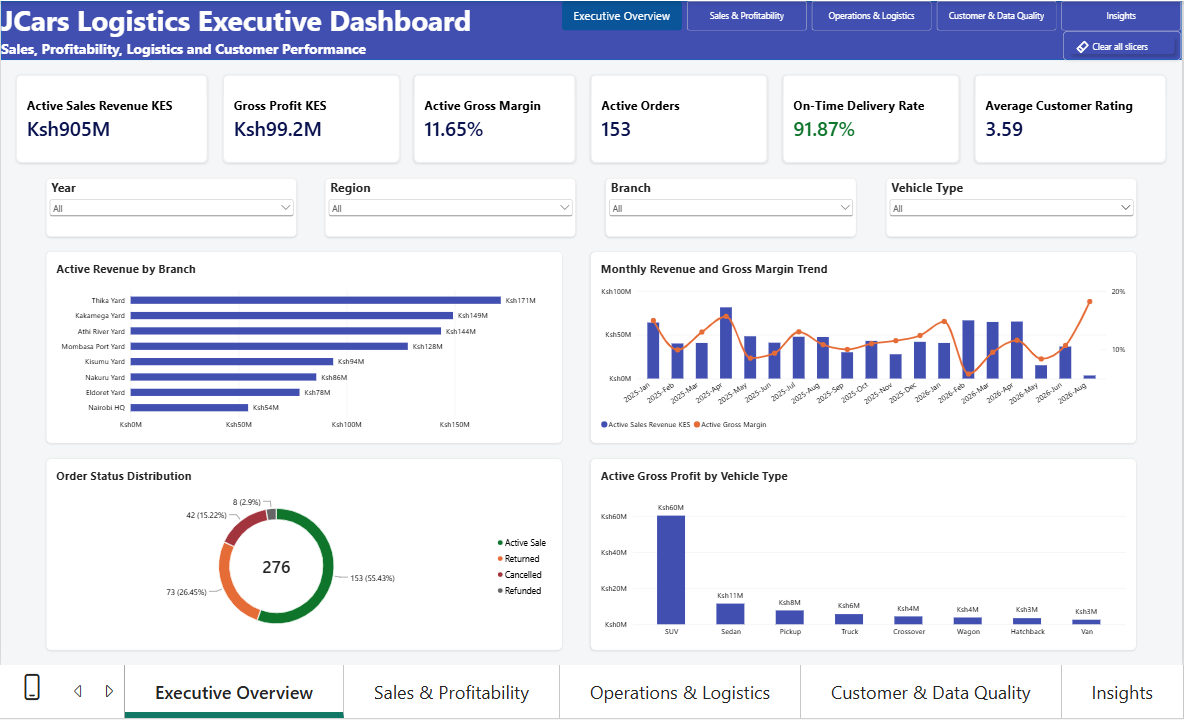

The page's visual inventory and layout, read from the dashboard file:
{"tool":"powerbi","page":{"name":"Executive Overview","canvas":[1920,1080],"ordinal":0},"visuals":[{"type":"shape","box":[0,0,1920,96],"z":0},{"type":"textbox","title":" JCars Logistics Executive Dashboard","box":[0,0,1920,96],"z":1000},{"type":"cardVisual","fields":{"Data":["_Measures.Active Sales Revenue KES"]},"box":[24,120,312,144],"z":2000},{"type":"cardVisual","fields":{"Data":["_Measures.Active Sales Gross Profit KES"]},"box":[360,120,288,144],"z":3000},{"type":"cardVisual","fields":{"Data":["_Measures.Active Orders"]},"box":[960,120,288,144],"z":4000},{"type":"cardVisual","fields":{"Data":["_Measures.On-Time Delivery Rate"]},"box":[1272,120,288,144],"z":5000},{"type":"cardVisual","fields":{"Data":["_Measures.Average Customer Rating"]},"box":[1584,120,312,144],"z":6000},{"type":"cardVisual","fields":{"Data":["_Measures.Active Gross Margin"]},"box":[672,120,264,144],"z":7000},{"type":"slicer","fields":{"Values":["DimDate.Year"]},"box":[72,288,408,96],"z":8000},{"type":"slicer","fields":{"Values":["DimVehicle.Vehicle Type"]},"box":[1440,288,408,96],"z":9000},{"type":"slicer","fields":{"Values":["DimBranch.Branch"]},"box":[984,288,408,96],"z":10000},{"type":"slicer","fields":{"Values":["DimBranch.Region"]},"box":[528,288,408,96],"z":11000},{"type":"lineClusteredColumnComboChart","title":"Monthly Revenue and Gross Margin Trend","fields":{"Category":["DimDate.Year Month"],"Y":["_Measures.Active Sales Revenue KES"],"Y2":["_Measures.Active Gross Margin"]},"box":[960,408,888,312],"z":12000},{"type":"clusteredBarChart","title":"Active Revenue by Branch","fields":{"Category":["DimBranch.Branch"],"Y":["_Measures.Active Sales Revenue KES"]},"box":[72,408,840,312],"z":13000},{"type":"donutChart","title":"Order Status Distribution","fields":{"Category":["FactSalesOrders.Transaction Analysis Status"],"Y":["_Measures.Total Orders"]},"box":[72,744,840,312],"z":14000},{"type":"clusteredColumnChart","title":"Active Gross Profit by Vehicle Type","fields":{"Category":["DimVehicle.Vehicle Type"],"Y":["_Measures.Gross Profit KES"]},"box":[960,744,888,312],"z":15000},{"type":"pageNavigator","box":[912,0,1008,48],"z":16000},{"type":"actionButton","box":[1728,48,192,48],"z":17000}]}

Visuals, with their boxes on the page's 1920x1080 design canvas (x1, y1, x2, y2). These are canvas units, not pixel positions in the 1184x720 screenshot, which may show the page scaled, cropped or inside an application window:
shape: BBox(0, 0, 1920, 96)
" JCars Logistics Executive Dashboard" textbox: BBox(0, 0, 1920, 96)
cardVisual - _Measures.Active Sales Revenue KES: BBox(24, 120, 336, 264)
cardVisual - _Measures.Active Sales Gross Profit KES: BBox(360, 120, 648, 264)
cardVisual - _Measures.Active Orders: BBox(960, 120, 1248, 264)
cardVisual - _Measures.On-Time Delivery Rate: BBox(1272, 120, 1560, 264)
cardVisual - _Measures.Average Customer Rating: BBox(1584, 120, 1896, 264)
cardVisual - _Measures.Active Gross Margin: BBox(672, 120, 936, 264)
slicer - DimDate.Year: BBox(72, 288, 480, 384)
slicer - DimVehicle.Vehicle Type: BBox(1440, 288, 1848, 384)
slicer - DimBranch.Branch: BBox(984, 288, 1392, 384)
slicer - DimBranch.Region: BBox(528, 288, 936, 384)
"Monthly Revenue and Gross Margin Trend" lineClusteredColumnComboChart: BBox(960, 408, 1848, 720)
"Active Revenue by Branch" clusteredBarChart: BBox(72, 408, 912, 720)
"Order Status Distribution" donutChart: BBox(72, 744, 912, 1056)
"Active Gross Profit by Vehicle Type" clusteredColumnChart: BBox(960, 744, 1848, 1056)
pageNavigator: BBox(912, 0, 1920, 48)
actionButton: BBox(1728, 48, 1920, 96)
